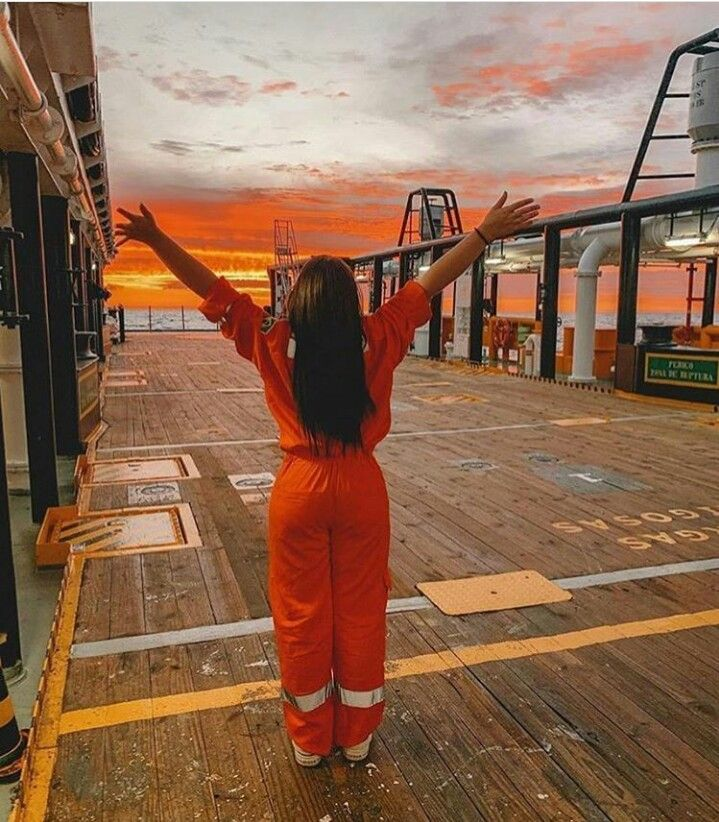person: (116, 171, 536, 808)
